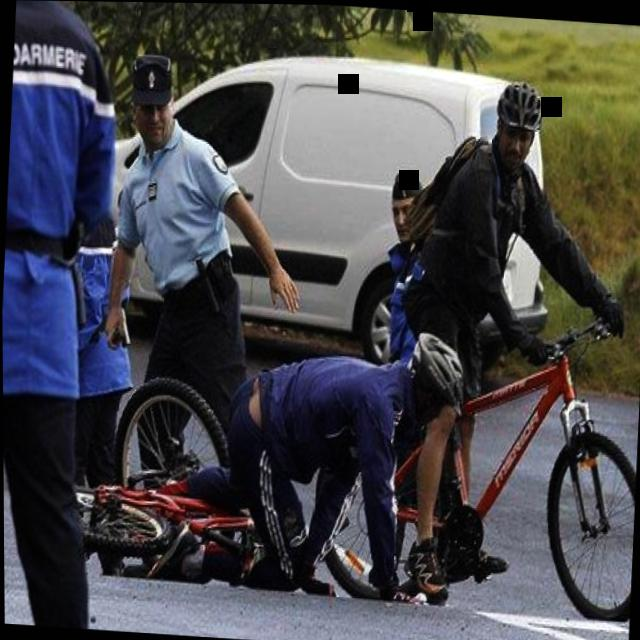Fall-Detected: (157, 310, 473, 597)
